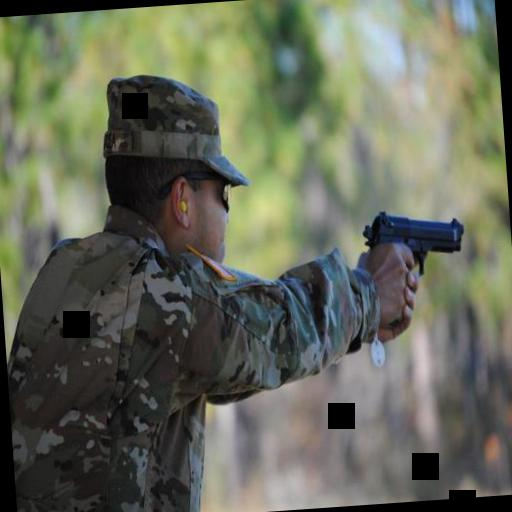Handgun: (358, 198, 466, 292)
